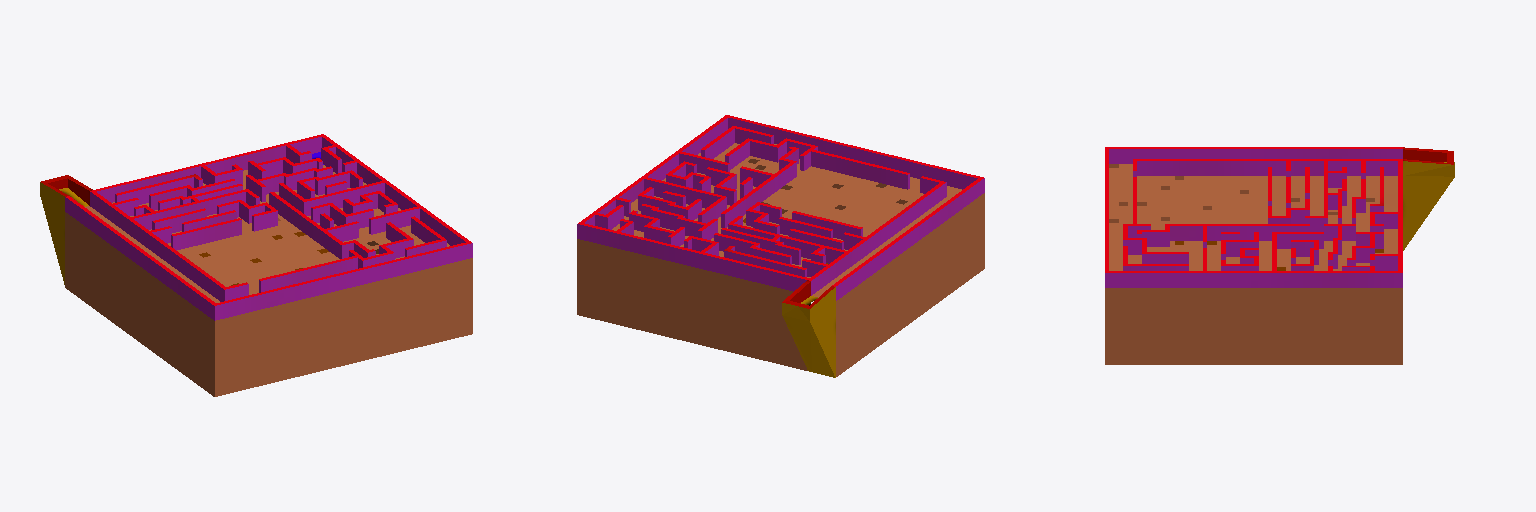
3 renders of one model, left to right at view 1: azimuth 30°, elevation 25°; view 2: azimuth 150°, elevation 25°; view 3: azimuth 270°, elevation 25°, orthographic.
Parts seen in each view (by area): view 1: Cube.001; view 2: Cube.001; view 3: Cube.001.
Boxes of the visible parts, x1,y1,x2,y2 form: Cube.001: [40, 134, 472, 396]; Cube.001: [577, 115, 984, 377]; Cube.001: [1105, 147, 1454, 364].
Size of the model in its own units: 2 by 0.6752 by 2.35.
1 materials, 1 textured.